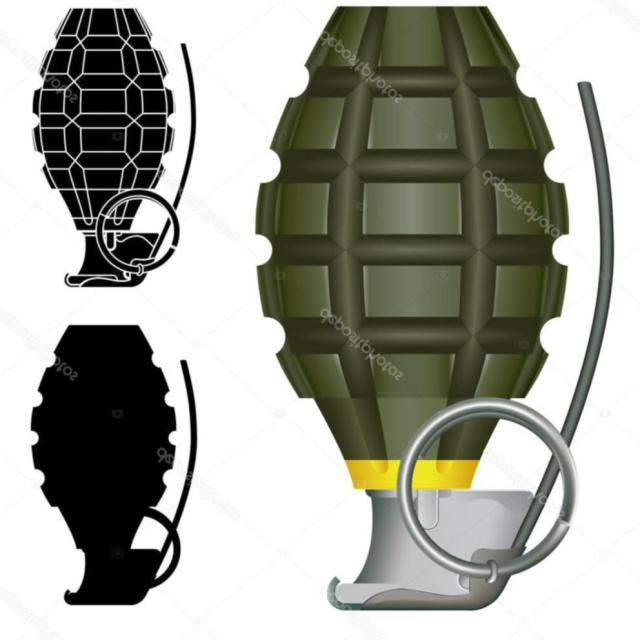grenade: (257, 6, 617, 612), (31, 323, 200, 606), (33, 8, 199, 291)
